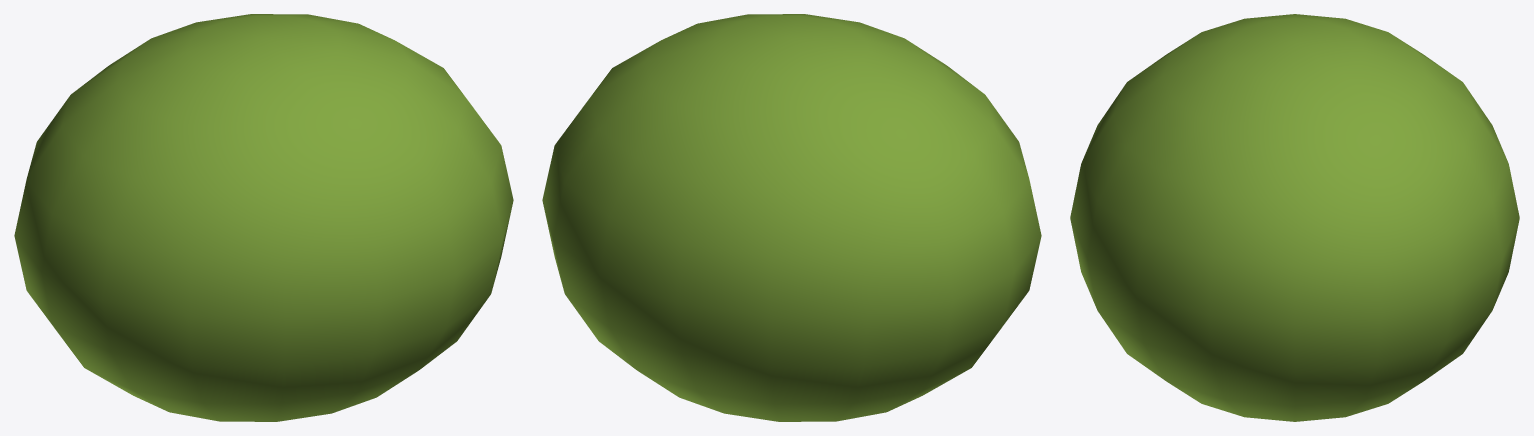
File: prop.garden-bush.glb
3 views of the same model, side by side, from view 1: azimuth 30°, elevation 25°; view 2: azimuth 150°, elevation 25°; view 3: azimuth 270°, elevation 25° (orthographic). The views are drawn at different scales.
Parts seen in each view (by area): view 1: crownProxy; view 2: crownProxy; view 3: crownProxy.
Part boxes in pixels (left/top/right/bottom): crownProxy: left=14, top=14, right=513, bottom=421; crownProxy: left=542, top=14, right=1041, bottom=421; crownProxy: left=1070, top=14, right=1519, bottom=421.
Size of the model in its own units: 2 by 1.55 by 1.8.
